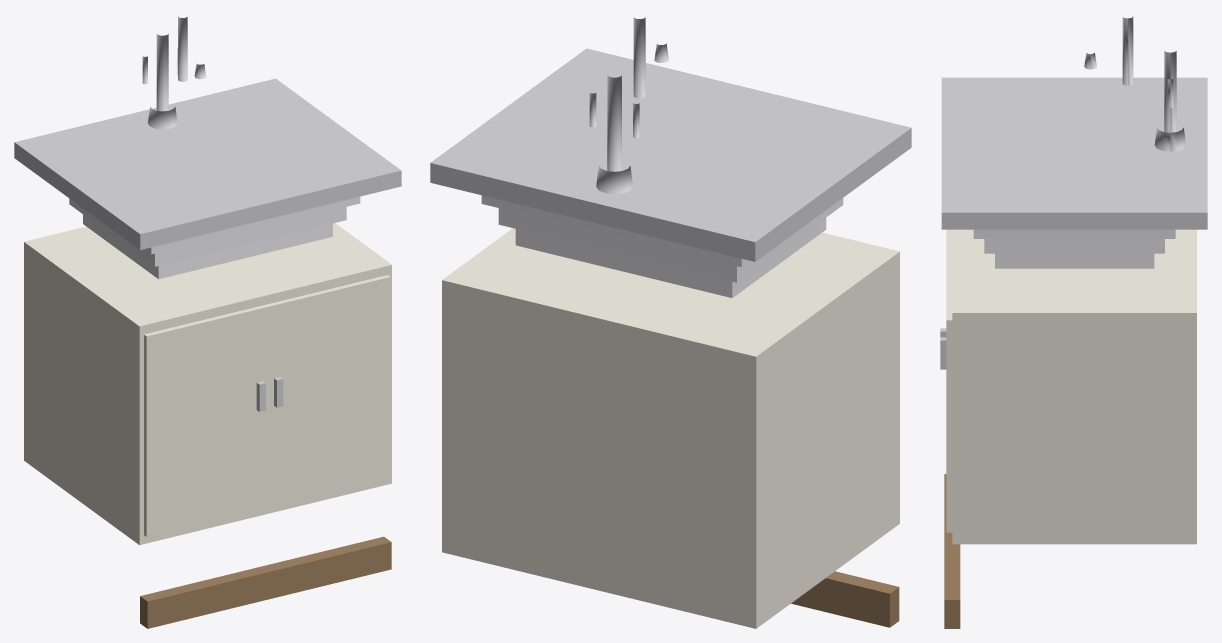
Rendered from sink.glb.
The picture shows the model from 3 angles, left to right: view 1: azimuth 30°, elevation 25°; view 2: azimuth 150°, elevation 25°; view 3: azimuth 270°, elevation 25°; orthographic projection. The views are drawn at different scales.
Visible parts, largest first — view 1: cabinet, rim, cabinet_door_l, cabinet_door_r, cabinet_plinth, basin_inner, basin_bottom, basin_outer, faucet_stem, faucet_spout, cabinet_handles, faucet_base; view 2: cabinet, rim, basin_inner, basin_bottom, cabinet_plinth, basin_outer, faucet_stem, faucet_spout, faucet_base; view 3: cabinet, rim, basin_inner, basin_bottom, basin_outer, cabinet_door_r, cabinet_plinth, faucet_stem, faucet_spout, faucet_base.
Part boxes in pixels (<box>): cabinet: <box>24,223,391,545</box>; rim: <box>14,78,401,250</box>; cabinet_door_l: <box>144,304,268,536</box>; cabinet_door_r: <box>266,275,390,506</box>; cabinet_plinth: <box>140,536,391,628</box>; basin_inner: <box>69,198,346,266</box>; basin_bottom: <box>83,214,332,279</box>; basin_outer: <box>144,196,360,254</box>; faucet_stem: <box>156,33,168,111</box>; faucet_spout: <box>178,16,187,81</box>; cabinet_handles: <box>256,377,283,411</box>; faucet_base: <box>148,106,177,129</box>; cabinet: <box>442,228,899,628</box>; rim: <box>430,48,911,261</box>; basin_inner: <box>498,198,843,282</box>; basin_bottom: <box>515,218,826,298</box>; cabinet_plinth: <box>791,571,899,627</box>; basin_outer: <box>481,195,749,267</box>; faucet_stem: <box>607,75,621,171</box>; faucet_spout: <box>633,17,645,98</box>; faucet_base: <box>596,165,633,194</box>; cabinet: <box>952,229,1196,544</box>; rim: <box>941,77,1207,229</box>; basin_inner: <box>984,239,1164,253</box>; basin_bottom: <box>995,253,1154,268</box>; basin_outer: <box>973,229,1175,238</box>; cabinet_door_r: <box>946,257,952,532</box>; cabinet_plinth: <box>944,474,960,628</box>; faucet_stem: <box>1164,51,1176,132</box>; faucet_spout: <box>1122,16,1133,85</box>; faucet_base: <box>1154,127,1185,151</box>.
Size of the model in its own units: 0.6 by 1.14 by 0.5025.
